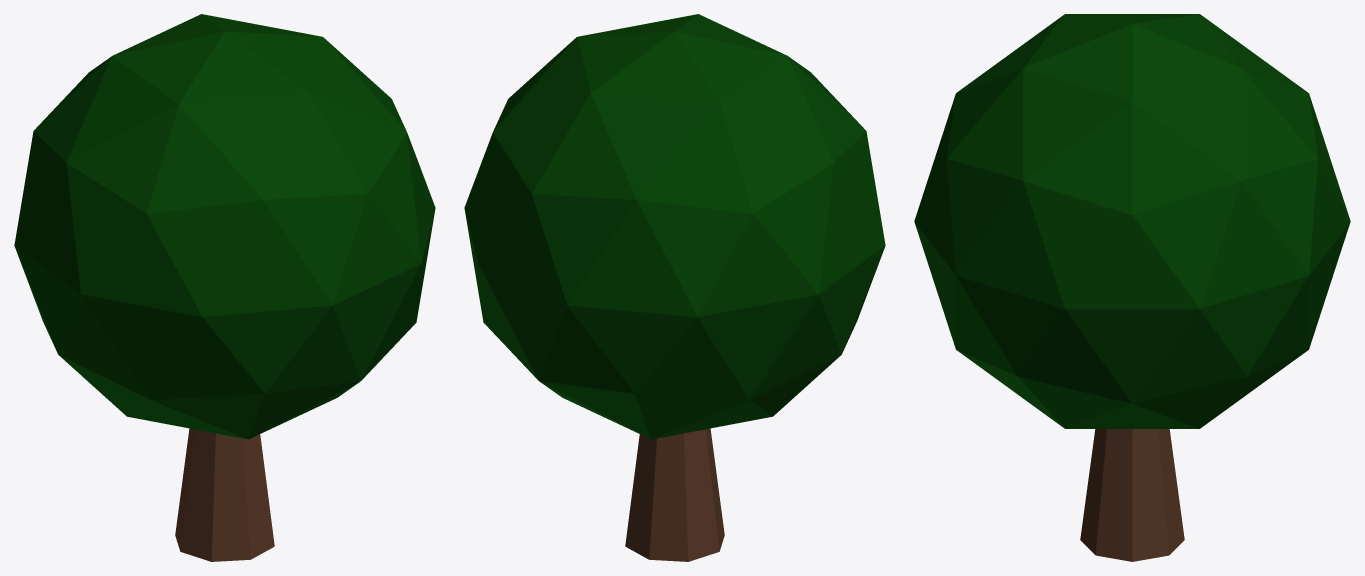
Rendered from bush_03.glb.
3 renders of one model, left to right at view 1: azimuth 30°, elevation 25°; view 2: azimuth 150°, elevation 25°; view 3: azimuth 270°, elevation 25°, orthographic.
Parts seen in each view (by area): view 1: Bush03; view 2: Bush03; view 3: Bush03.
Part boxes in pixels (box(x1,y1,x2,y2)): Bush03: box(14, 14, 435, 561); Bush03: box(464, 14, 885, 561); Bush03: box(914, 14, 1350, 561).
Bounding box in the file's own units: 1.99 × 2.73 × 2.09.
1 material, 1 textured.
